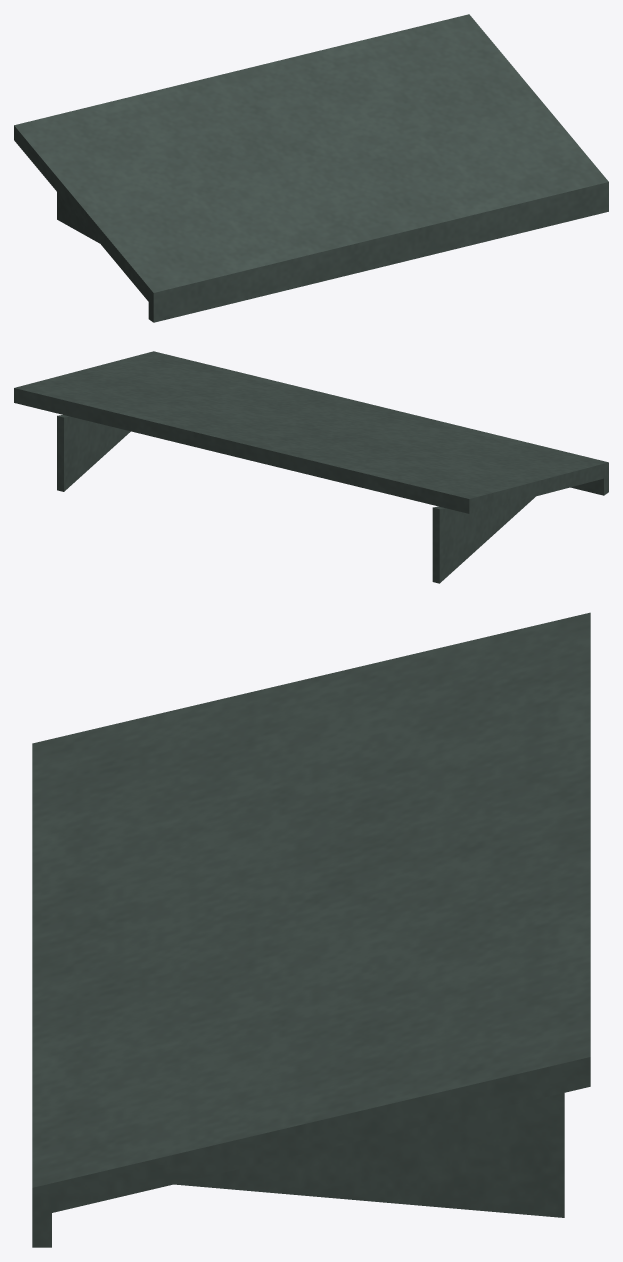
Rendered from sloped-metal-awning.lod0.glb.
3 views of the same model, one above another, from view 1: azimuth 30°, elevation 25°; view 2: azimuth 150°, elevation 25°; view 3: azimuth 270°, elevation 25° (orthographic). The views are drawn at different scales.
Parts seen in each view (by area): view 1: sloped-metal-awning; view 2: sloped-metal-awning; view 3: sloped-metal-awning.
Part boxes in pixels (bbox=[...]): sloped-metal-awning: bbox=[14, 14, 608, 322]; sloped-metal-awning: bbox=[14, 351, 608, 583]; sloped-metal-awning: bbox=[32, 612, 590, 1247].
Size of the model in its own units: 1.6 by 0.33 by 0.85.
Materials: 1 (1 with a texture image).
